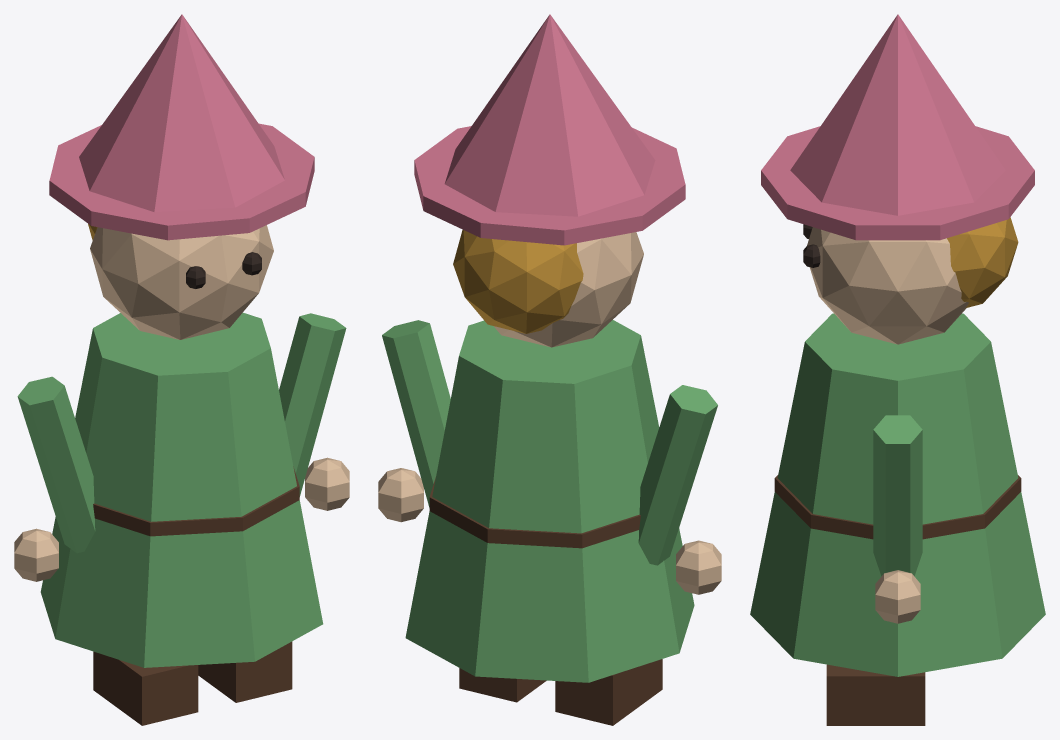
Rendered from villager_3.glb.
3 views of the same model, side by side, from view 1: azimuth 30°, elevation 25°; view 2: azimuth 150°, elevation 25°; view 3: azimuth 270°, elevation 25° (orthographic). The views are drawn at different scales.
Parts seen in each view (by area): view 1: villager_3; view 2: villager_3; view 3: villager_3.
Part boxes in pixels (box(x1,y1,x2,y2)): villager_3: box(14, 14, 349, 725); villager_3: box(378, 14, 721, 725); villager_3: box(750, 14, 1045, 725).
Bounding box in the file's own units: 0.6078 × 1.16 × 0.459.
